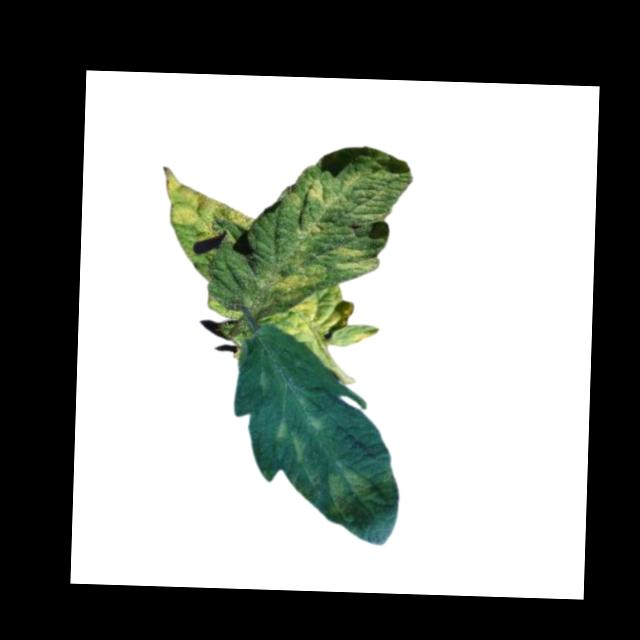Leaf_Mold: (160, 165, 257, 238), (284, 295, 380, 346), (325, 462, 386, 527), (257, 261, 325, 294), (299, 174, 345, 212), (333, 241, 381, 273), (273, 418, 306, 464), (291, 216, 326, 240)
